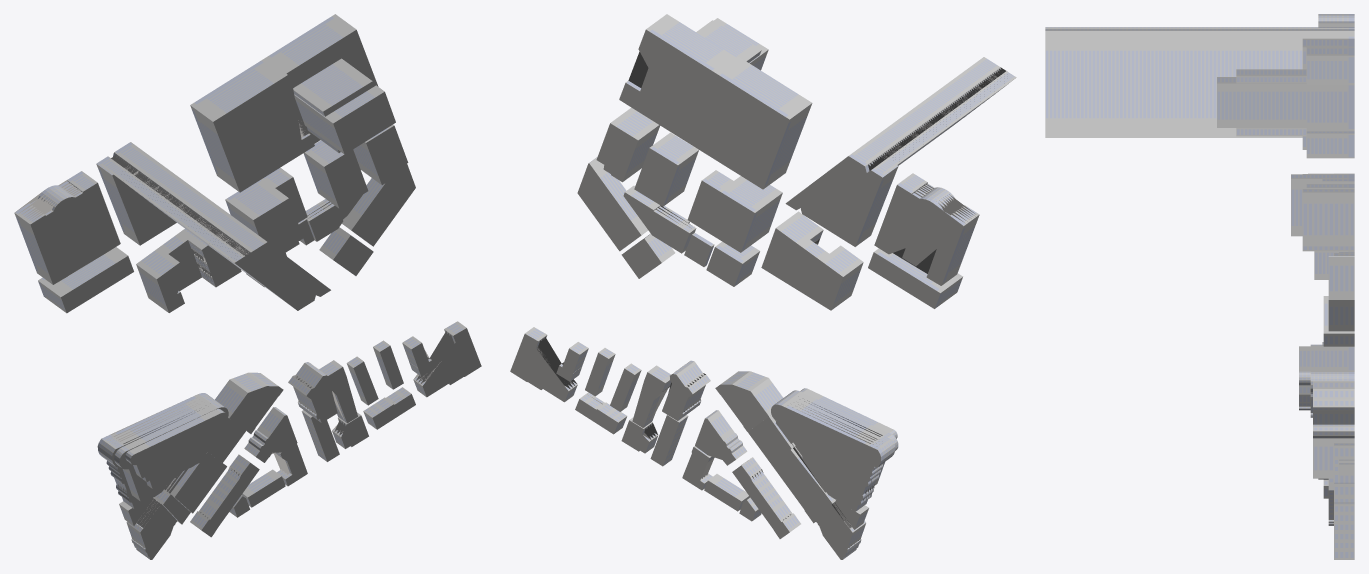
Rendered from demo.glb.
3 views of the same model, side by side, from view 1: azimuth 30°, elevation 25°; view 2: azimuth 150°, elevation 25°; view 3: azimuth 270°, elevation 25° (orthographic). The views are drawn at different scales.
Parts seen in each view (by area): view 1: roofs, walls, apertures, interior_floors; view 2: exterior_floors, walls, apertures, interior_floors, roofs; view 3: walls, apertures.
Boxes of the visible parts, left/top/right/bottom form: roofs: left=30, top=30, right=481, bottom=559; walls: left=14, top=14, right=466, bottom=559; apertures: left=15, top=16, right=463, bottom=558; interior_floors: left=19, top=120, right=441, bottom=518; exterior_floors: left=510, top=29, right=963, bottom=559; walls: left=525, top=14, right=1016, bottom=559; apertures: left=528, top=22, right=1014, bottom=558; interior_floors: left=537, top=70, right=998, bottom=547; roofs: left=537, top=51, right=1005, bottom=547; walls: left=1045, top=14, right=1354, bottom=559; apertures: left=1046, top=14, right=1354, bottom=557.
Size of the model in its own units: 460 by 468 by 238.
